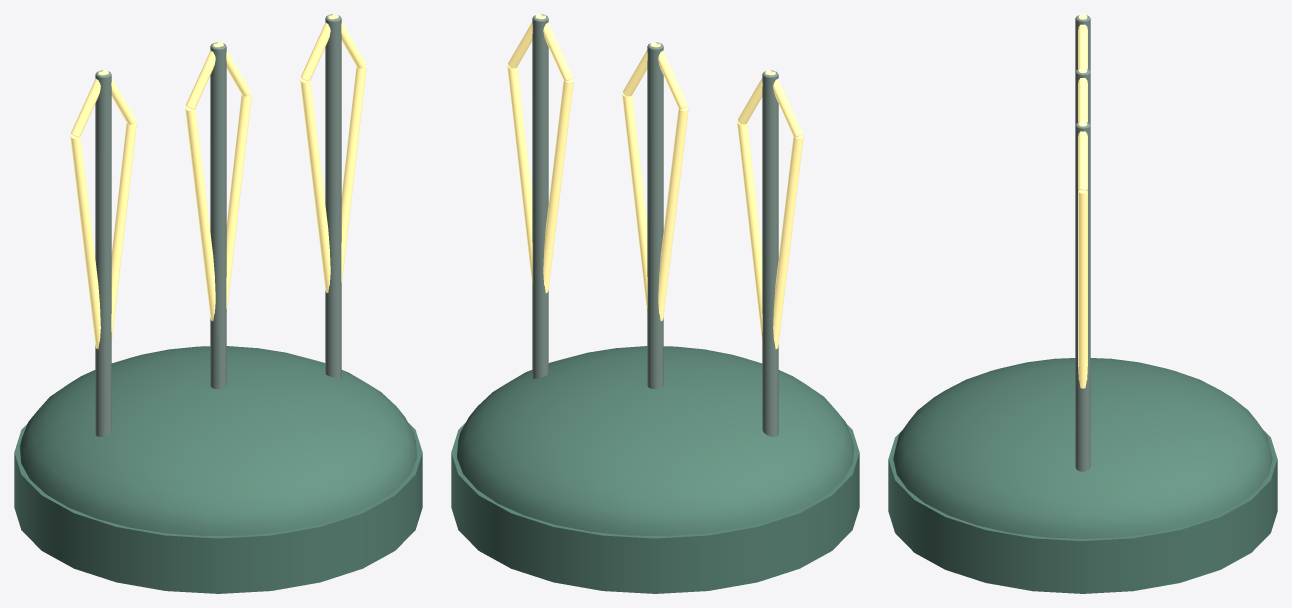
3 views of the same model, side by side, from view 1: azimuth 30°, elevation 25°; view 2: azimuth 150°, elevation 25°; view 3: azimuth 270°, elevation 25° (orthographic). The views are drawn at different scales.
Visible parts, largest first — view 1: Shield generator low housing, Foundation drum, Shield emitter stem, Shield emitter stem.002, Shield emitter stem.001, Shield emitter cage.004, Shield emitter cage, Shield emitter cage.002, Shield emitter cage.001, Shield emitter cage.003, Shield emitter cage.005, Shield cage crown (+2 smaller); view 2: Shield generator low housing, Foundation drum, Shield emitter stem, Shield emitter stem.002, Shield emitter stem.001, Shield emitter cage.004, Shield emitter cage, Shield emitter cage.002, Shield emitter cage.001, Shield emitter cage.003, Shield emitter cage.005, Shield cage crown (+2 smaller); view 3: Shield generator low housing, Foundation drum, Shield emitter stem.002, Shield emitter cage.005, Shield cage crown.005.
Part boxes in pixels (x1,y1,x2,y2): Shield generator low housing: (20,346,416,536); Foundation drum: (14,422,422,593); Shield emitter stem: (95,70,111,436); Shield emitter stem.002: (325,14,341,378); Shield emitter stem.001: (210,42,226,389); Shield emitter cage.004: (300,78,330,292); Shield emitter cage: (70,135,100,348); Shield emitter cage.002: (185,107,215,320); Shield emitter cage.001: (111,122,136,341); Shield emitter cage.003: (226,93,251,312); Shield emitter cage.005: (341,65,366,283); Shield cage crown: (71,71,105,137); Shield generator low housing: (457,346,853,536); Foundation drum: (451,422,859,593); Shield emitter stem: (762,70,778,436); Shield emitter stem.002: (532,14,548,378); Shield emitter stem.001: (647,42,663,389); Shield emitter cage.004: (543,78,573,292); Shield emitter cage: (773,135,803,348); Shield emitter cage.002: (658,107,688,320); Shield emitter cage.001: (737,122,762,341); Shield emitter cage.003: (622,93,647,312); Shield emitter cage.005: (507,65,532,283); Shield cage crown: (768,71,802,137); Shield generator low housing: (893,358,1272,538); Foundation drum: (888,430,1277,593); Shield emitter stem.002: (1075,122,1090,471); Shield emitter cage.005: (1078,190,1087,388); Shield cage crown.005: (1078,124,1087,190).
Size of the model in its own units: 2 by 2.51 by 2.
